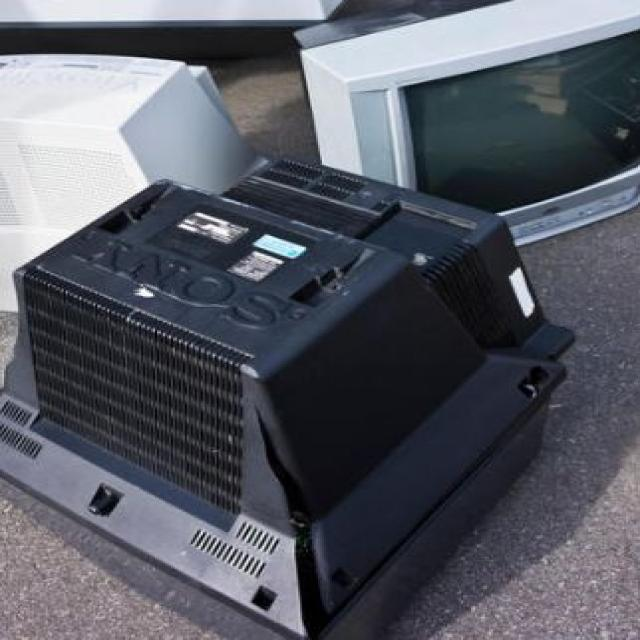electronic: (1, 146, 629, 640), (267, 0, 640, 319), (3, 32, 282, 356)
